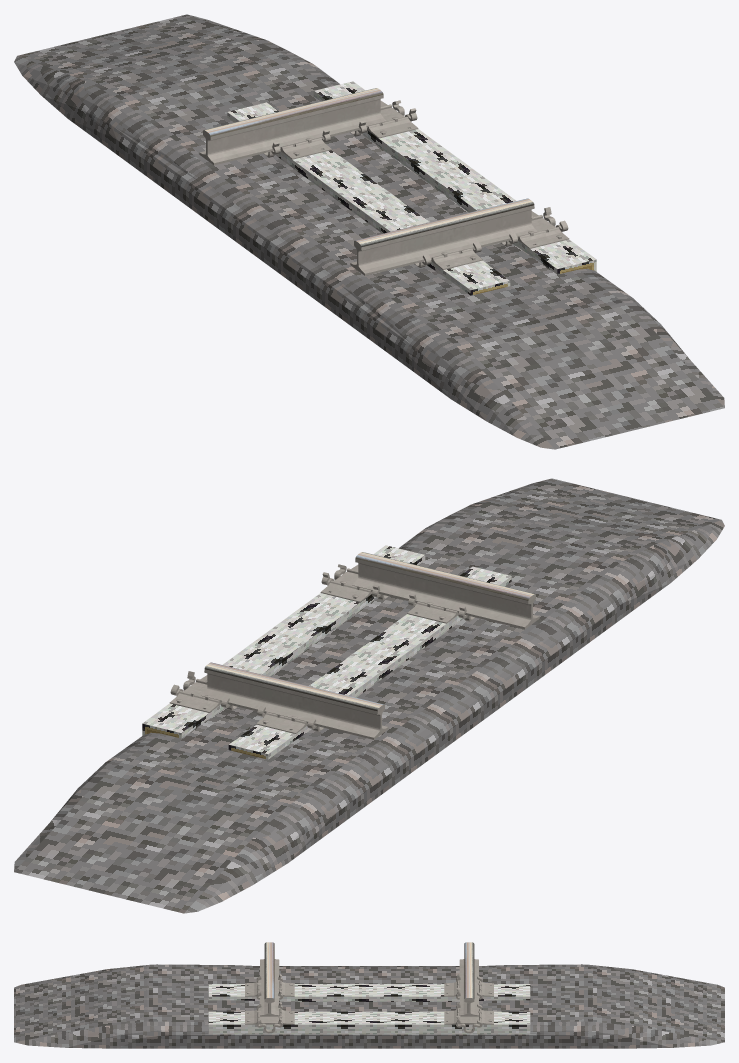
The model's file is birch_ballast_wide.obj.
The picture shows the model from 3 angles, top to bottom: view 1: azimuth 30°, elevation 25°; view 2: azimuth 150°, elevation 25°; view 3: azimuth 270°, elevation 25°; orthographic projection. The views are drawn at different scales.
Visible parts, largest first — view 1: RAIL_BASE.001_Plane.002, RAIL_BASE_Plane, RAIL_LEFT_Cube.002, RAIL_RIGHT_Cube.010; view 2: RAIL_BASE.001_Plane.002, RAIL_BASE_Plane, RAIL_RIGHT_Cube.010, RAIL_LEFT_Cube.002; view 3: RAIL_BASE.001_Plane.002, RAIL_BASE_Plane, RAIL_LEFT_Cube.002, RAIL_RIGHT_Cube.010.
Boxes of the visible parts, x1=… form: RAIL_BASE.001_Plane.002: x1=14, y1=14, x2=724, y2=449; RAIL_BASE_Plane: x1=227, y1=81, x2=596, y2=295; RAIL_LEFT_Cube.002: x1=350, y1=198, x2=537, y2=275; RAIL_RIGHT_Cube.010: x1=199, y1=88, x2=386, y2=165; RAIL_BASE.001_Plane.002: x1=14, y1=478, x2=724, y2=913; RAIL_BASE_Plane: x1=142, y1=545, x2=511, y2=759; RAIL_RIGHT_Cube.010: x1=201, y1=662, x2=388, y2=739; RAIL_LEFT_Cube.002: x1=352, y1=552, x2=539, y2=629; RAIL_BASE.001_Plane.002: x1=14, y1=964, x2=724, y2=1048; RAIL_BASE_Plane: x1=208, y1=974, x2=530, y2=1034; RAIL_LEFT_Cube.002: x1=260, y1=942, x2=279, y2=1016; RAIL_RIGHT_Cube.010: x1=459, y1=942, x2=478, y2=1016.
Size of the model in its own units: 1.29 by 0.3683 by 5.39.
5 materials, 5 textured.
